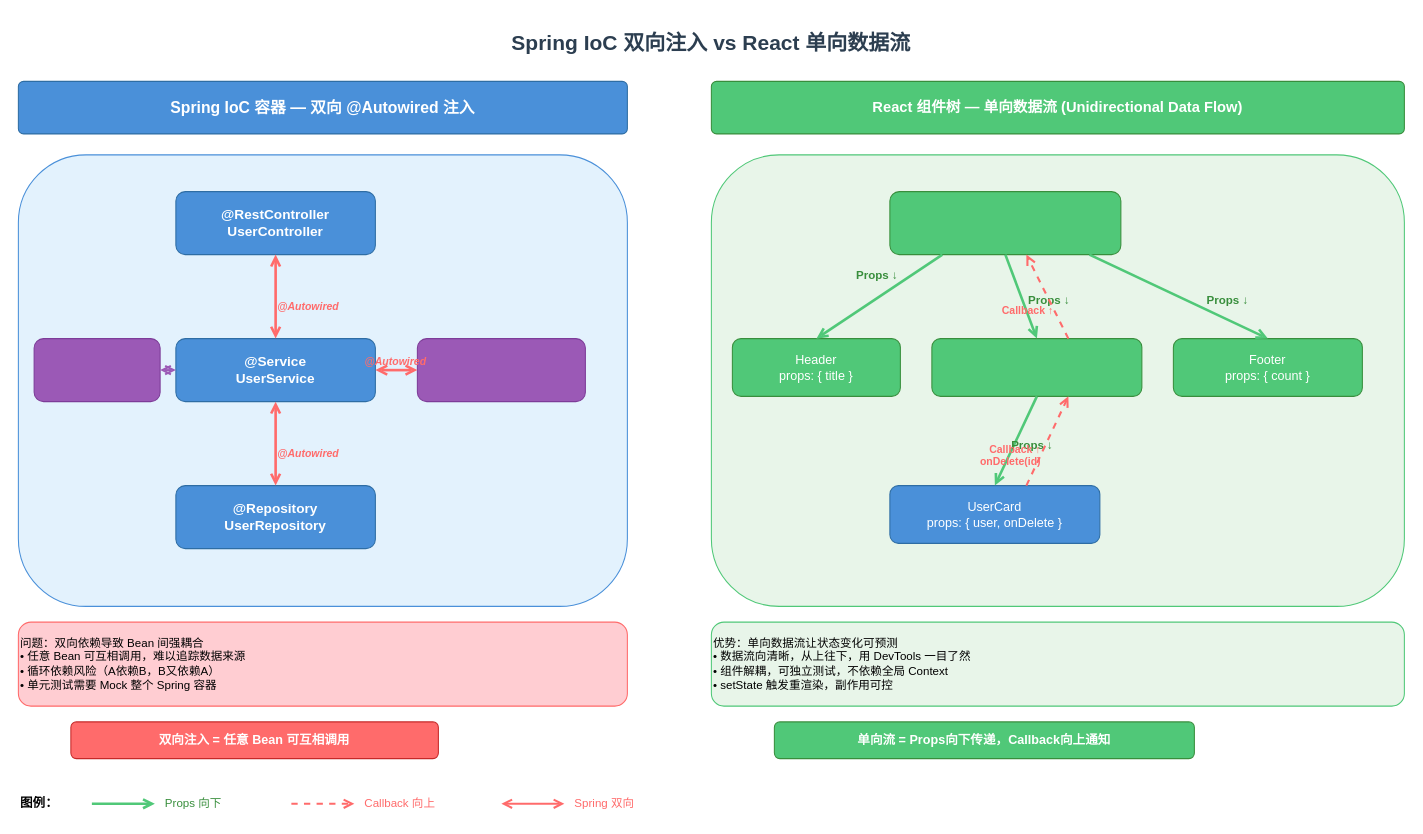
Some shapes in this 1423 by 834 pixel diagram are drawn without their labels. The box of each missing label's shape, as (x1, y1, x2, y2) in pixels:
@Configuration AppConfig: (33, 338, 160, 402)
@Service EmailService: (416, 338, 585, 402)
App (根组件) state: { users, loading }: (889, 191, 1121, 255)
Spring IoC 容器: (17, 154, 627, 606)
UserList props: { users, onDelete }: (931, 338, 1142, 396)
组件树 (Component Tree): (710, 154, 1404, 606)
